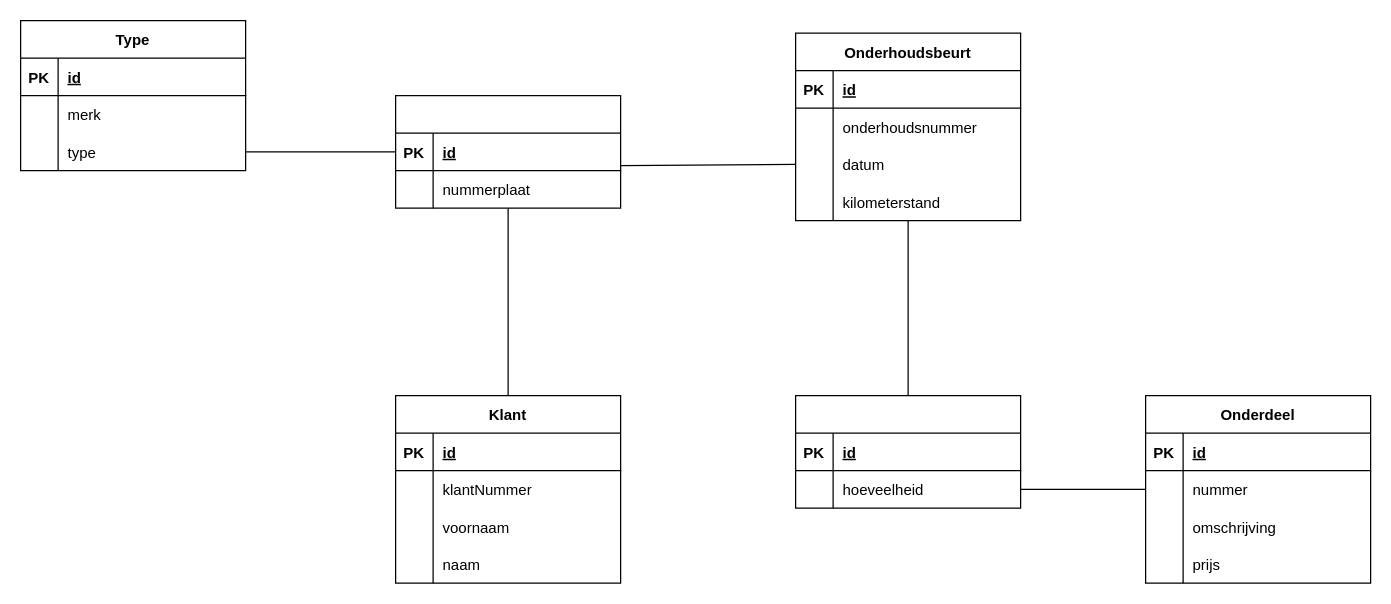
Image size: 1391x604. Some labels were removed from this diagram. The shapes that lost their labels are listed below. From the top down, each one's box as (x1, y1, x2, y2) in pixels, then its label:
(394, 94, 621, 208): Auto
(794, 394, 1021, 508): OnderhoudsbeurtOnderdeel
